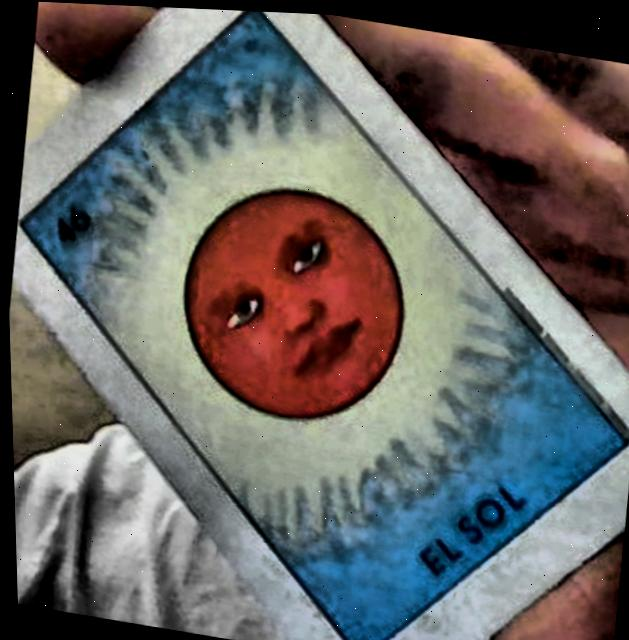El Sol: (20, 9, 626, 640)
